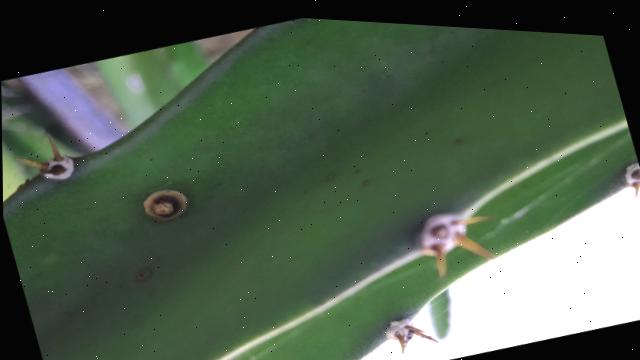stemcanker: (141, 189, 192, 225)
